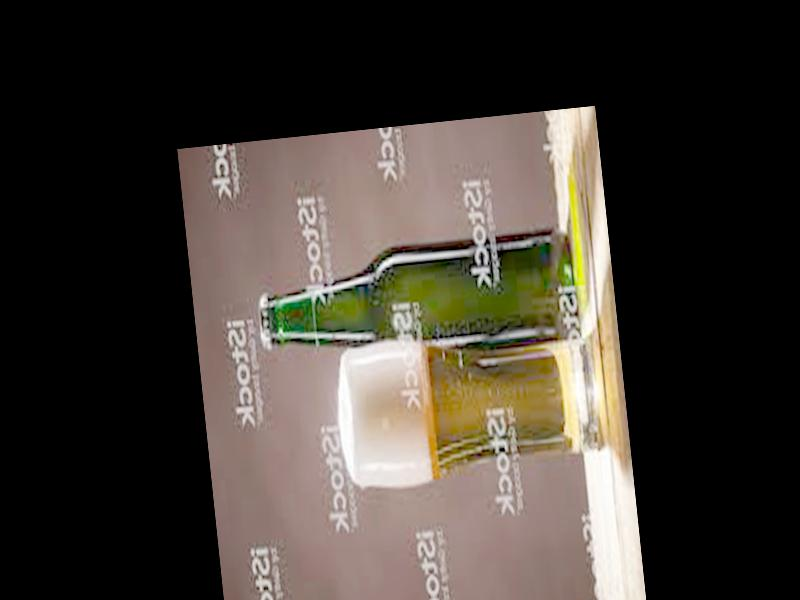Beer: (253, 225, 582, 374)
